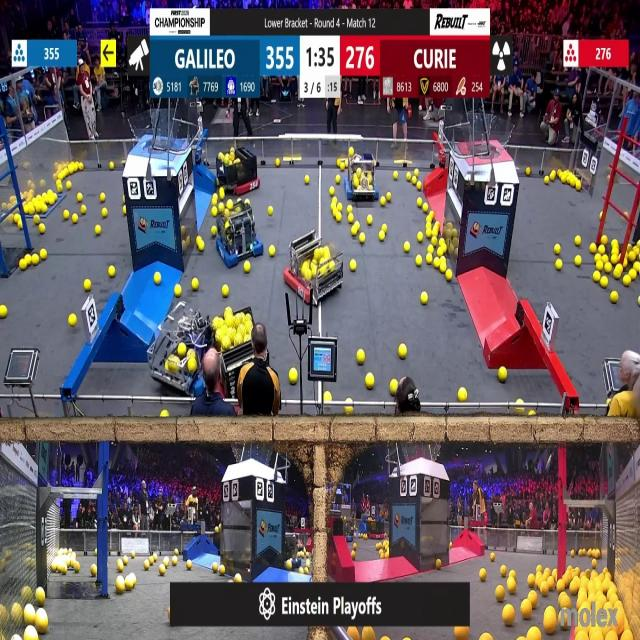ball_airborne: (346, 627, 359, 640), (362, 627, 373, 640)
ball_ground: (35, 612, 48, 636), (543, 612, 555, 636), (502, 605, 514, 625), (36, 588, 45, 607), (522, 602, 532, 619), (126, 575, 137, 589), (288, 367, 297, 383), (364, 374, 373, 390), (496, 586, 505, 602), (119, 578, 128, 594), (560, 594, 570, 608), (506, 580, 515, 595), (528, 629, 540, 640), (498, 366, 506, 381), (26, 629, 38, 639), (458, 388, 467, 401), (615, 266, 623, 280), (390, 380, 397, 395), (398, 345, 406, 358), (357, 350, 364, 364), (529, 592, 537, 604), (0, 306, 7, 319), (18, 261, 26, 272), (221, 285, 228, 297), (83, 280, 90, 292), (601, 276, 608, 288), (421, 292, 428, 304), (92, 564, 99, 576), (528, 574, 535, 586), (630, 271, 638, 281), (603, 264, 611, 274), (610, 253, 618, 263), (154, 273, 160, 286), (610, 291, 617, 302), (556, 261, 563, 272), (244, 263, 251, 274), (555, 244, 562, 255), (624, 276, 631, 287), (108, 267, 115, 278), (270, 246, 277, 257), (351, 224, 358, 235), (218, 187, 225, 198), (285, 560, 292, 571), (440, 262, 447, 273), (224, 306, 231, 317), (191, 279, 197, 291), (481, 568, 487, 580), (70, 314, 76, 326), (346, 408, 354, 417), (610, 240, 618, 249), (235, 573, 242, 583), (426, 254, 433, 264), (594, 272, 601, 282), (324, 391, 331, 401), (590, 244, 597, 254), (432, 256, 439, 266), (550, 172, 557, 182), (175, 285, 181, 296), (447, 271, 453, 282), (435, 559, 441, 570), (96, 224, 102, 235), (40, 249, 46, 260), (403, 242, 409, 253), (358, 234, 364, 245), (574, 255, 580, 266), (32, 254, 38, 265), (213, 562, 219, 573), (58, 181, 64, 192), (119, 562, 125, 573), (482, 634, 493, 640), (602, 254, 610, 262), (440, 239, 447, 248), (595, 253, 602, 262), (439, 247, 446, 256), (418, 233, 424, 243), (219, 564, 225, 574), (161, 565, 167, 575), (186, 560, 192, 570), (350, 262, 356, 272), (337, 213, 343, 223), (574, 237, 580, 247), (102, 208, 108, 218), (500, 566, 506, 576), (199, 242, 205, 252), (598, 245, 604, 255), (74, 562, 80, 572), (226, 201, 232, 211), (596, 264, 603, 272), (162, 412, 170, 419), (600, 237, 607, 245), (517, 409, 524, 417), (417, 255, 422, 266), (380, 233, 386, 242), (348, 214, 354, 223), (72, 214, 78, 223), (328, 186, 334, 195), (64, 211, 70, 220), (386, 191, 392, 200), (144, 561, 150, 570), (212, 198, 218, 207), (34, 214, 40, 223), (422, 204, 428, 213), (218, 203, 224, 212), (25, 206, 31, 215), (403, 172, 409, 181), (39, 223, 44, 233), (366, 215, 371, 225), (212, 226, 217, 236), (172, 558, 178, 566), (80, 207, 86, 215), (212, 208, 218, 216), (76, 192, 82, 200), (511, 569, 517, 577), (382, 224, 388, 232), (426, 232, 432, 240), (526, 168, 532, 176), (108, 163, 114, 171), (431, 230, 437, 238), (149, 556, 155, 564), (101, 192, 106, 201), (381, 198, 386, 207), (575, 181, 580, 190), (331, 202, 336, 211), (338, 205, 344, 212), (441, 256, 447, 263), (426, 215, 432, 222), (380, 554, 386, 561), (269, 207, 274, 215), (67, 181, 72, 189), (276, 160, 281, 168), (428, 245, 433, 253), (413, 176, 418, 184), (417, 182, 422, 190), (543, 176, 548, 184), (431, 238, 436, 246), (341, 162, 346, 170), (306, 560, 311, 568), (635, 295, 640, 303), (351, 552, 356, 560), (78, 164, 83, 172), (491, 553, 495, 562), (418, 199, 422, 208), (529, 412, 535, 418), (562, 175, 566, 184), (348, 206, 353, 213), (132, 552, 137, 559), (298, 567, 303, 574), (517, 398, 524, 403), (306, 176, 310, 184), (393, 172, 397, 180), (17, 220, 21, 228), (593, 560, 597, 568), (337, 176, 341, 183), (416, 170, 420, 177), (570, 551, 574, 558), (122, 207, 125, 216), (305, 568, 309, 574), (449, 542, 453, 547)
goal: (460, 118, 516, 158), (129, 116, 187, 151)
robot_blue: (215, 203, 264, 269), (153, 346, 204, 397), (346, 151, 381, 202)
robot_red: (207, 307, 255, 414), (286, 241, 344, 306), (217, 148, 261, 195), (362, 519, 386, 539), (446, 0, 487, 6)
